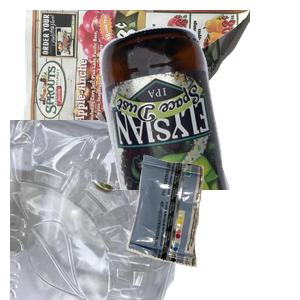glass: (97, 24, 300, 204)
paper: (18, 10, 258, 190)
plastic: (10, 120, 197, 300)
trash: (124, 152, 300, 300)
